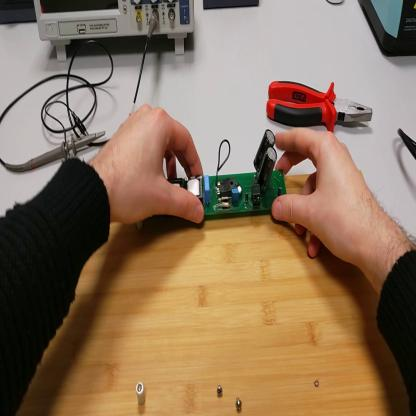hand: (273, 125, 375, 269), (100, 103, 206, 231)
high voltage board: (137, 131, 286, 229)
oscilloscope: (36, 1, 195, 61)
oscilloscope probe tip: (13, 128, 108, 176)
pliers: (264, 75, 377, 134)
socket: (2, 2, 37, 27)
welder station: (358, 1, 416, 60)
working area: (15, 173, 411, 416)
